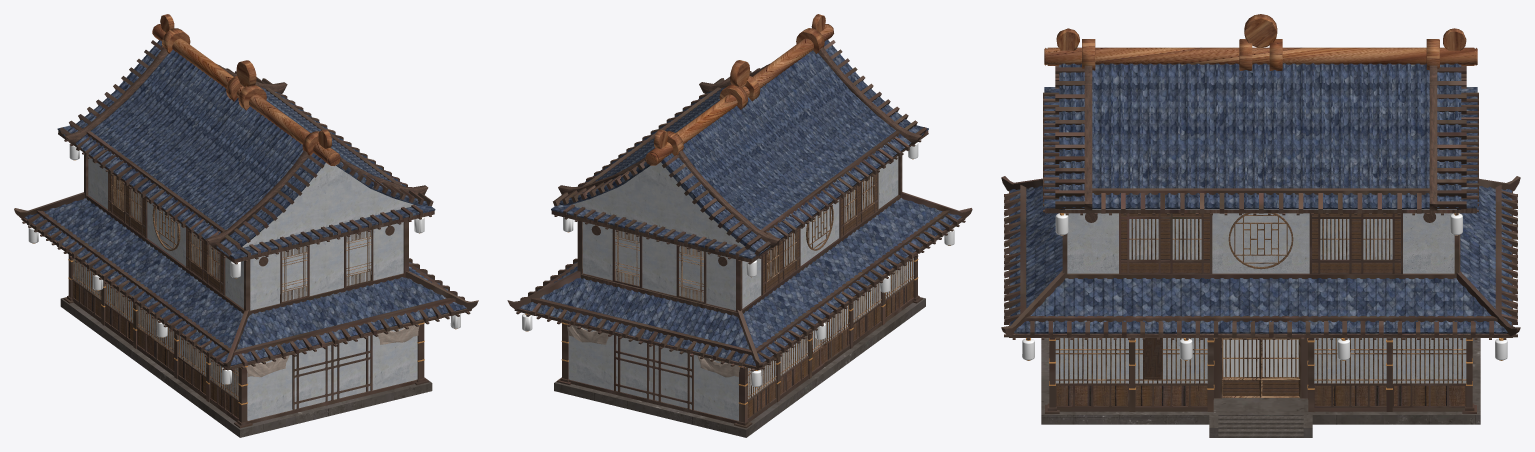
The model's file is teahouse.glb.
3 views of the same model, side by side, from view 1: azimuth 30°, elevation 25°; view 2: azimuth 150°, elevation 25°; view 3: azimuth 270°, elevation 25° (orthographic). The views are drawn at different scales.
Parts seen in each view (by area): view 1: roof, second floor base, Plane, window wires, base, roof top cylinder, roof beam, wood planks, Dark door wood, cloth, Lantern, Lantern.001; view 2: roof, second floor base, Plane, window wires, base, roof top cylinder, roof beam, wood planks, Dark door wood, cloth, Lantern; view 3: roof, second floor base, Plane, window wires, roof top cylinder, Dark door wood, base, wood planks, roof beam, stairs, Lantern, board (+2 smaller).
Boxes of the visible parts, x1=… form: roof: x1=25, y1=40, x2=466, y2=365; second floor base: x1=14, y1=40, x2=478, y2=428; Plane: x1=73, y1=156, x2=417, y2=420; window wires: x1=72, y1=174, x2=371, y2=400; base: x1=60, y1=297, x2=432, y2=437; roof top cylinder: x1=152, y1=14, x2=340, y2=166; roof beam: x1=65, y1=47, x2=428, y2=247; wood planks: x1=73, y1=281, x2=238, y2=418; Dark door wood: x1=109, y1=174, x2=223, y2=293; cloth: x1=246, y1=325, x2=419, y2=377; Lantern: x1=28, y1=227, x2=460, y2=384; Lantern.001: x1=69, y1=143, x2=424, y2=277; roof: x1=519, y1=39, x2=961, y2=365; second floor base: x1=507, y1=40, x2=972, y2=428; Plane: x1=568, y1=156, x2=913, y2=420; window wires: x1=615, y1=174, x2=913, y2=400; base: x1=554, y1=298, x2=925, y2=437; roof top cylinder: x1=645, y1=14, x2=833, y2=165; roof beam: x1=558, y1=47, x2=921, y2=247; wood planks: x1=747, y1=281, x2=913, y2=418; Dark door wood: x1=763, y1=174, x2=877, y2=293; cloth: x1=567, y1=323, x2=739, y2=377; Lantern: x1=522, y1=228, x2=954, y2=387; roof: x1=1009, y1=63, x2=1512, y2=333; second floor base: x1=1001, y1=66, x2=1520, y2=413; Plane: x1=1055, y1=209, x2=1466, y2=383; window wires: x1=1055, y1=219, x2=1466, y2=397; roof top cylinder: x1=1044, y1=14, x2=1477, y2=70; Dark door wood: x1=1121, y1=213, x2=1400, y2=395; base: x1=1041, y1=338, x2=1480, y2=437; wood planks: x1=1056, y1=385, x2=1465, y2=405; roof beam: x1=1084, y1=65, x2=1437, y2=210; stairs: x1=1218, y1=416, x2=1303, y2=437; Lantern: x1=1022, y1=338, x2=1507, y2=360; board: x1=1143, y1=338, x2=1162, y2=379.
Size of the model in its own units: 10.41 by 11.16 by 14.96.
14 materials, 12 textured.
